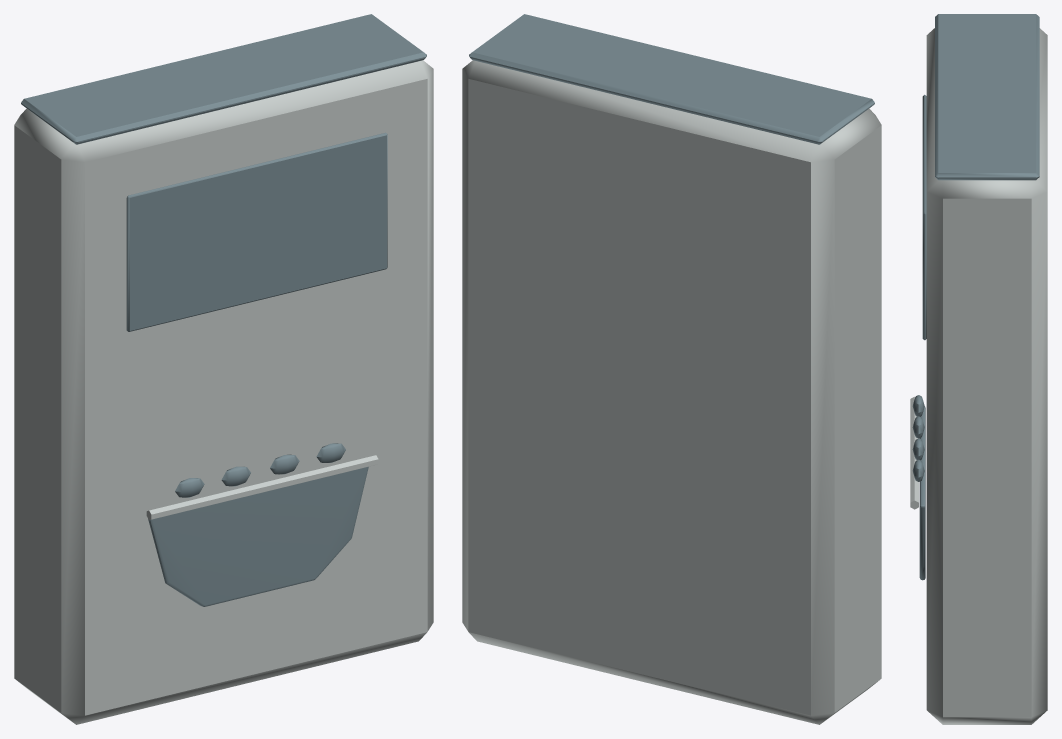
File: cereal-box.glb
3 views of the same model, side by side, from view 1: azimuth 30°, elevation 25°; view 2: azimuth 150°, elevation 25°; view 3: azimuth 270°, elevation 25° (orthographic). The views are drawn at different scales.
Visible parts, largest first — view 1: folded_box, raised_brand_panel, lid_flap, bowl_pictogram, bowl_rim; view 2: folded_box, lid_flap; view 3: folded_box, lid_flap, raised_brand_panel, bowl_pictogram, bowl_rim.
Boxes of the visible parts, left/top/right/bottom form: folded_box: left=14, top=60, right=433, bottom=724; raised_brand_panel: left=126, top=132, right=387, bottom=331; lid_flap: left=21, top=14, right=426, bottom=144; bowl_pictogram: left=148, top=466, right=368, bottom=606; bowl_rim: left=146, top=455, right=378, bottom=520; folded_box: left=462, top=60, right=881, bottom=724; lid_flap: left=469, top=14, right=874, bottom=144; folded_box: left=926, top=28, right=1047, bottom=724; lid_flap: left=935, top=14, right=1039, bottom=180; raised_brand_panel: left=922, top=94, right=926, bottom=340; bowl_pictogram: left=919, top=406, right=925, bottom=580; bowl_rim: left=910, top=396, right=918, bottom=509.
Bounding box in the file's own units: 0.2 × 0.303 × 0.0682.
